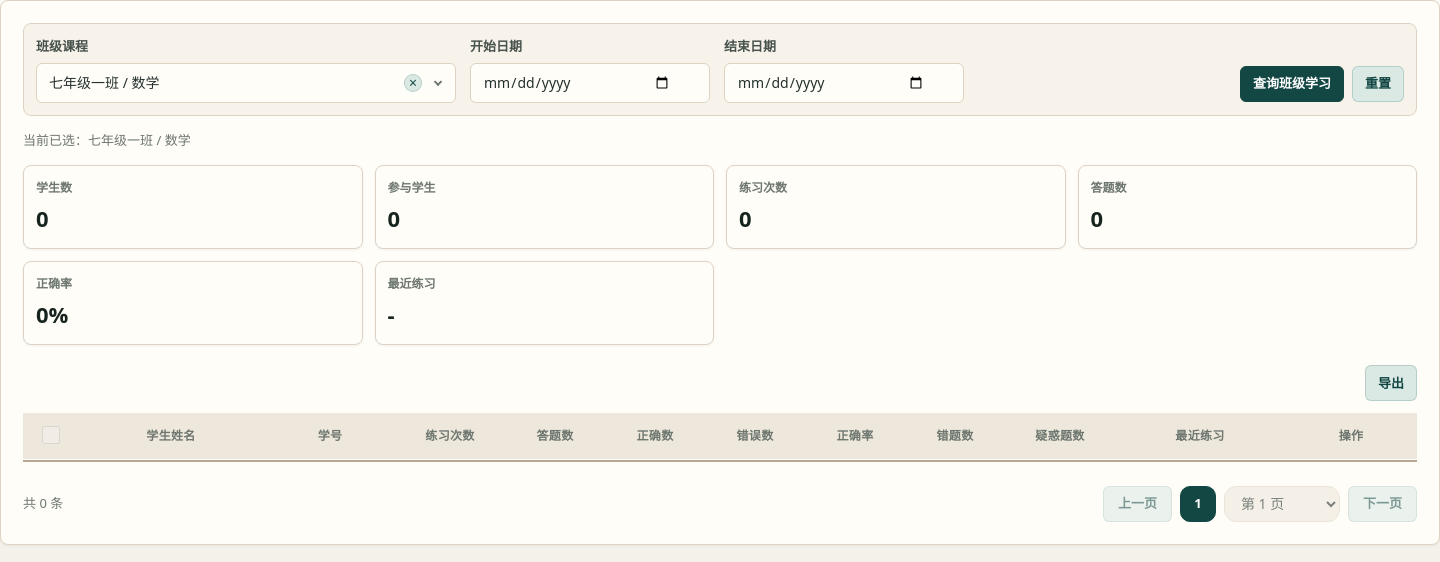
it: ClassLearningPage › keeps cascade expanded and selected state visible across collapse and re-expand
Expected: the text "当前已选：七年级一班 / 数学" is shown, top-left (23, 131), bottom-right (191, 149)
Select "七年级二班 / 英语" in the dropdown labelled "班级课程": (62, 46) top-left (36, 37), bottom-right (88, 55)
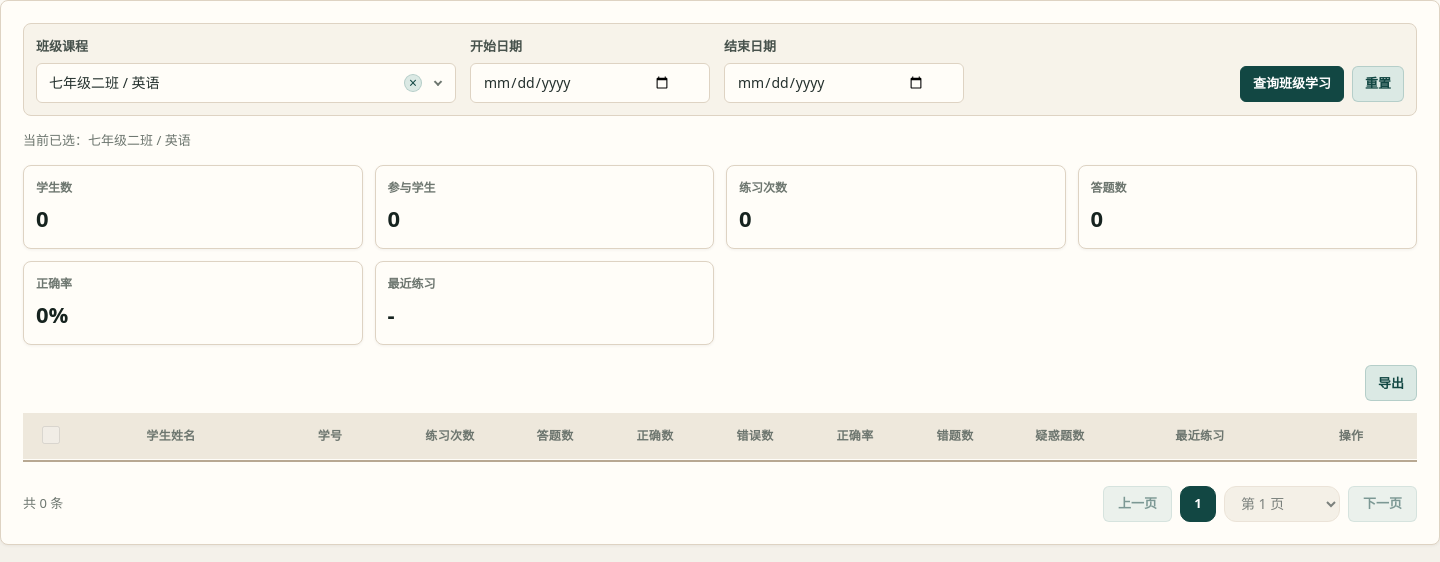
Expected: the text "当前已选：七年级二班 / 英语" is shown, top-left (23, 131), bottom-right (191, 149)
Select "七年级一班 / 语文" in the dropdown labelled "班级课程": (62, 46) top-left (36, 37), bottom-right (88, 55)
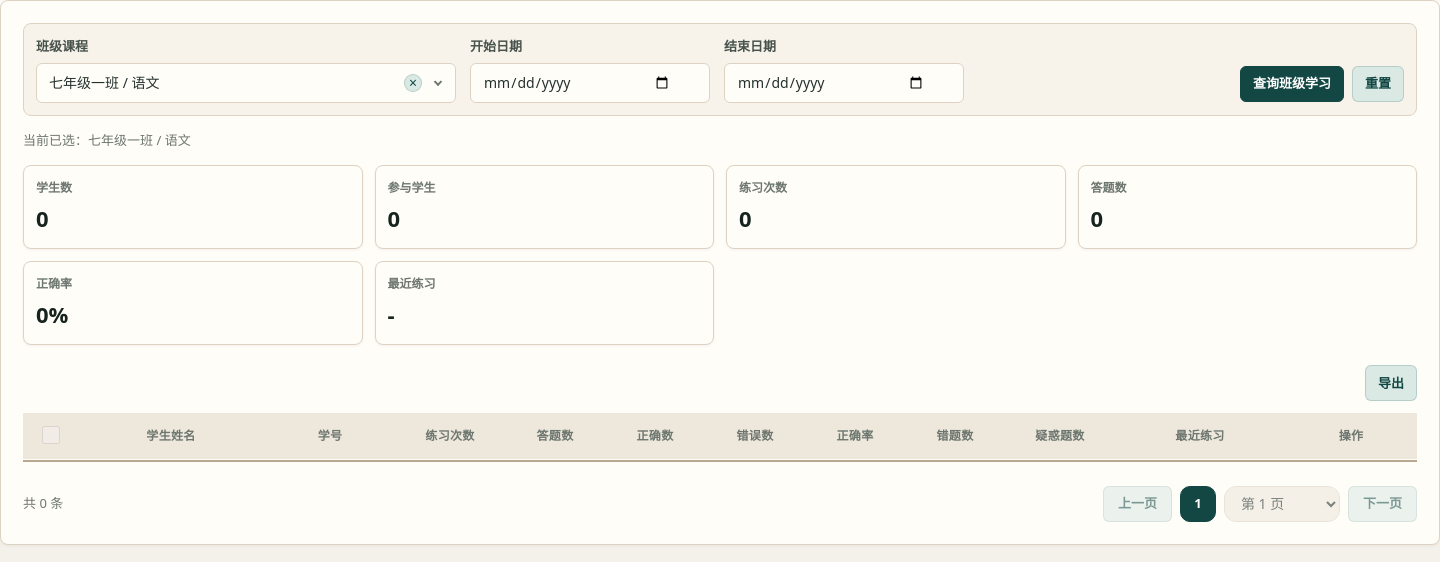
Expected: the text "当前已选：七年级一班 / 语文" is shown, top-left (23, 131), bottom-right (191, 149)
